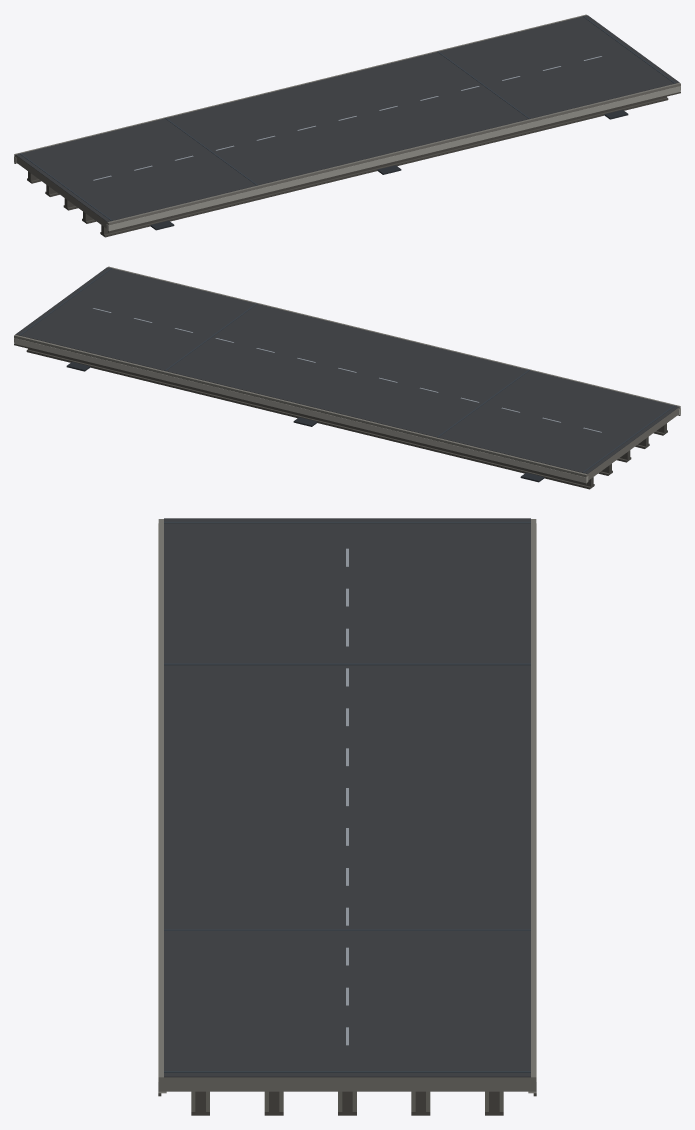
The model's file is env_overpass_span.fbx.
3 renders of one model, top to bottom at view 1: azimuth 30°, elevation 25°; view 2: azimuth 150°, elevation 25°; view 3: azimuth 270°, elevation 25°, orthographic. The views are drawn at different scales.
Parts seen in each view (by area): view 1: env_overpass_span; view 2: env_overpass_span; view 3: env_overpass_span.
Part boxes in pixels (x1,y1,x2,y2): env_overpass_span: [14, 14, 680, 237]; env_overpass_span: [14, 266, 680, 489]; env_overpass_span: [158, 518, 536, 1115].
Size of the model in its own units: 12605 by 462 by 3610.
